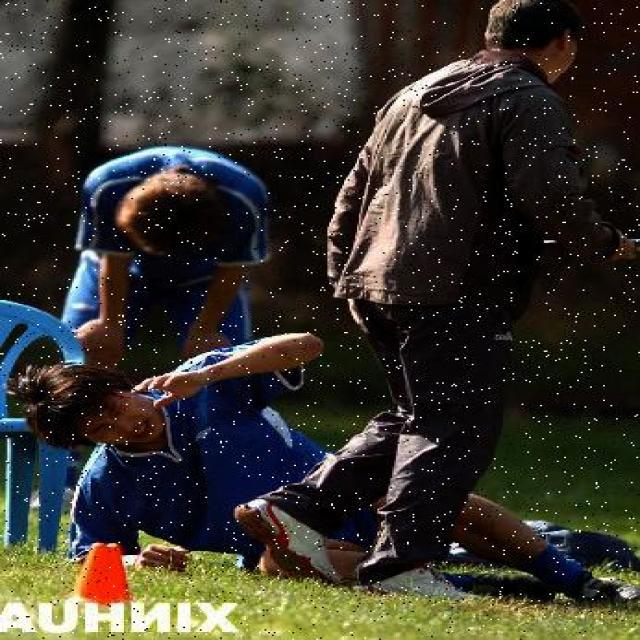fall: (26, 356, 607, 603)
